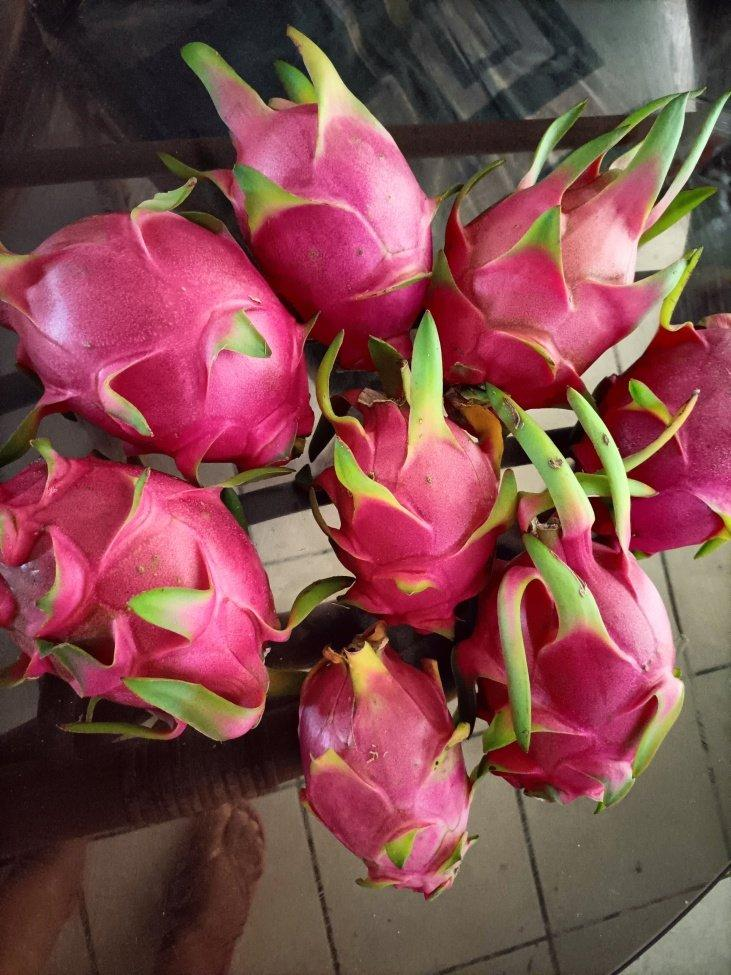dragon fruit: (0, 454, 296, 779), (6, 190, 320, 486), (170, 26, 436, 366), (444, 84, 731, 395), (486, 510, 710, 835), (300, 368, 510, 646), (286, 636, 484, 918), (562, 324, 731, 547)
